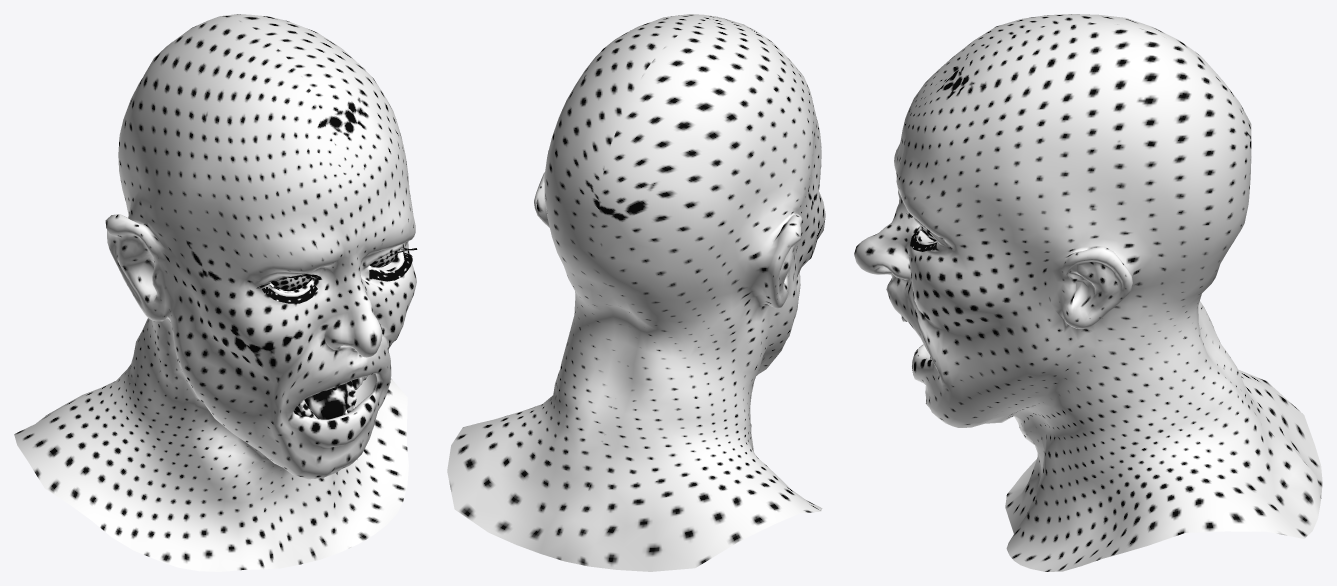
Rendered from dot_head.gltf.
3 renders of one model, left to right at view 1: azimuth 30°, elevation 25°; view 2: azimuth 150°, elevation 25°; view 3: azimuth 270°, elevation 25°, orthographic. The views are drawn at different scales.
Parts seen in each view (by area): view 1: Body, Eyelashes, default; view 2: Body; view 3: Body.
Part boxes in pixels (x1,y1,x2,y2): Body: [14, 14, 416, 571]; Eyelashes: [256, 247, 417, 303]; default: [270, 249, 399, 291]; Body: [447, 14, 825, 571]; Body: [854, 14, 1322, 571].
Bounding box in the file's own units: 0.6333 × 0.8506 × 0.7067.
Materials: 1 (1 with a texture image).
